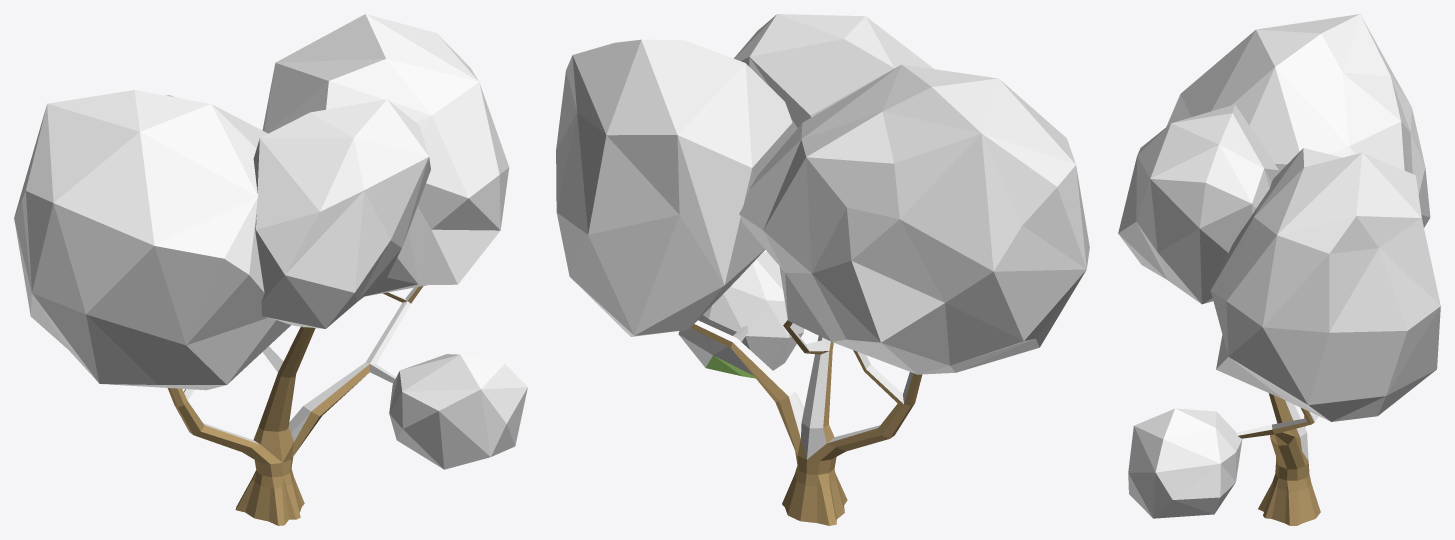
Rendered from Oak_Tree_l_Snow_01.fbx.
The picture shows the model from 3 angles, left to right: view 1: azimuth 30°, elevation 25°; view 2: azimuth 150°, elevation 25°; view 3: azimuth 270°, elevation 25°; orthographic projection. The views are drawn at different scales.
Parts seen in each view (by area): view 1: Oak_Tree_l_Snow_01; view 2: Oak_Tree_l_Snow_01; view 3: Oak_Tree_l_Snow_01.
Boxes of the visible parts, x1,y1,x2,y2 form: Oak_Tree_l_Snow_01: (14,14,527,525); Oak_Tree_l_Snow_01: (556,14,1089,525); Oak_Tree_l_Snow_01: (1118,14,1440,525).
Bounding box in the file's own units: 1268 × 1124 × 781.
